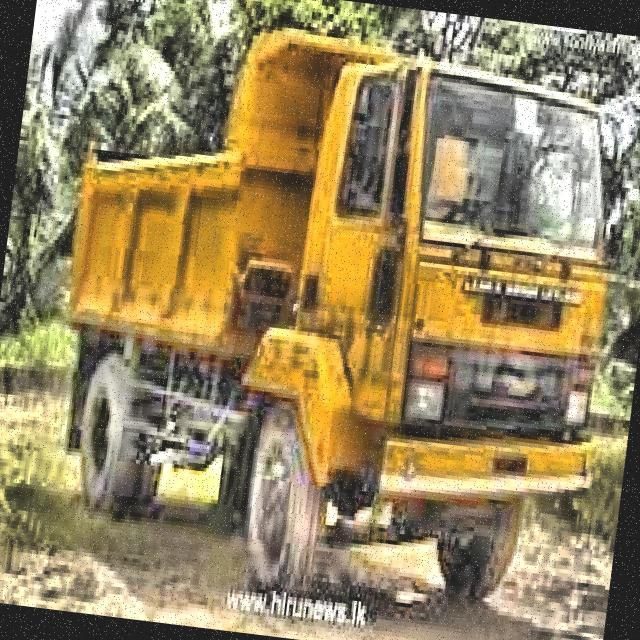dump_truck: (36, 8, 636, 634)
